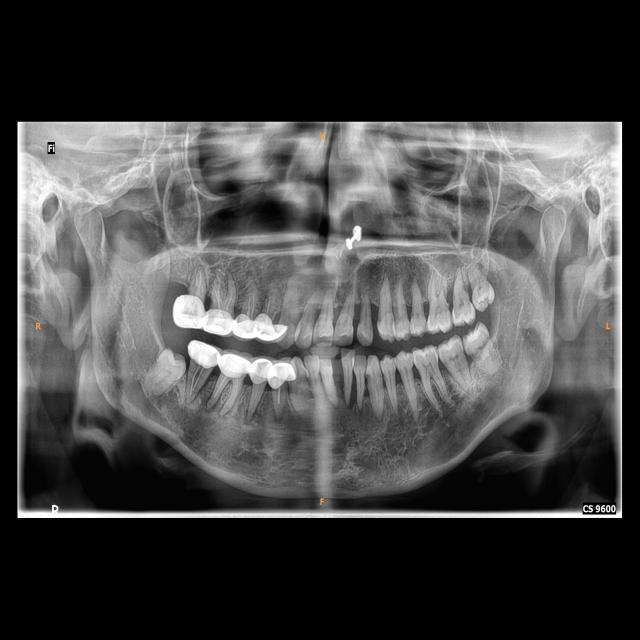kanal-tedavisi: (212, 376, 238, 408), (213, 279, 235, 308), (190, 364, 204, 395), (187, 274, 206, 293), (247, 287, 255, 314), (265, 292, 272, 318), (275, 388, 285, 406)
kaplama: (170, 292, 208, 328), (218, 351, 252, 379), (200, 303, 230, 333), (189, 338, 218, 366), (253, 318, 285, 341), (271, 358, 295, 386), (235, 313, 258, 336), (251, 361, 269, 384)
